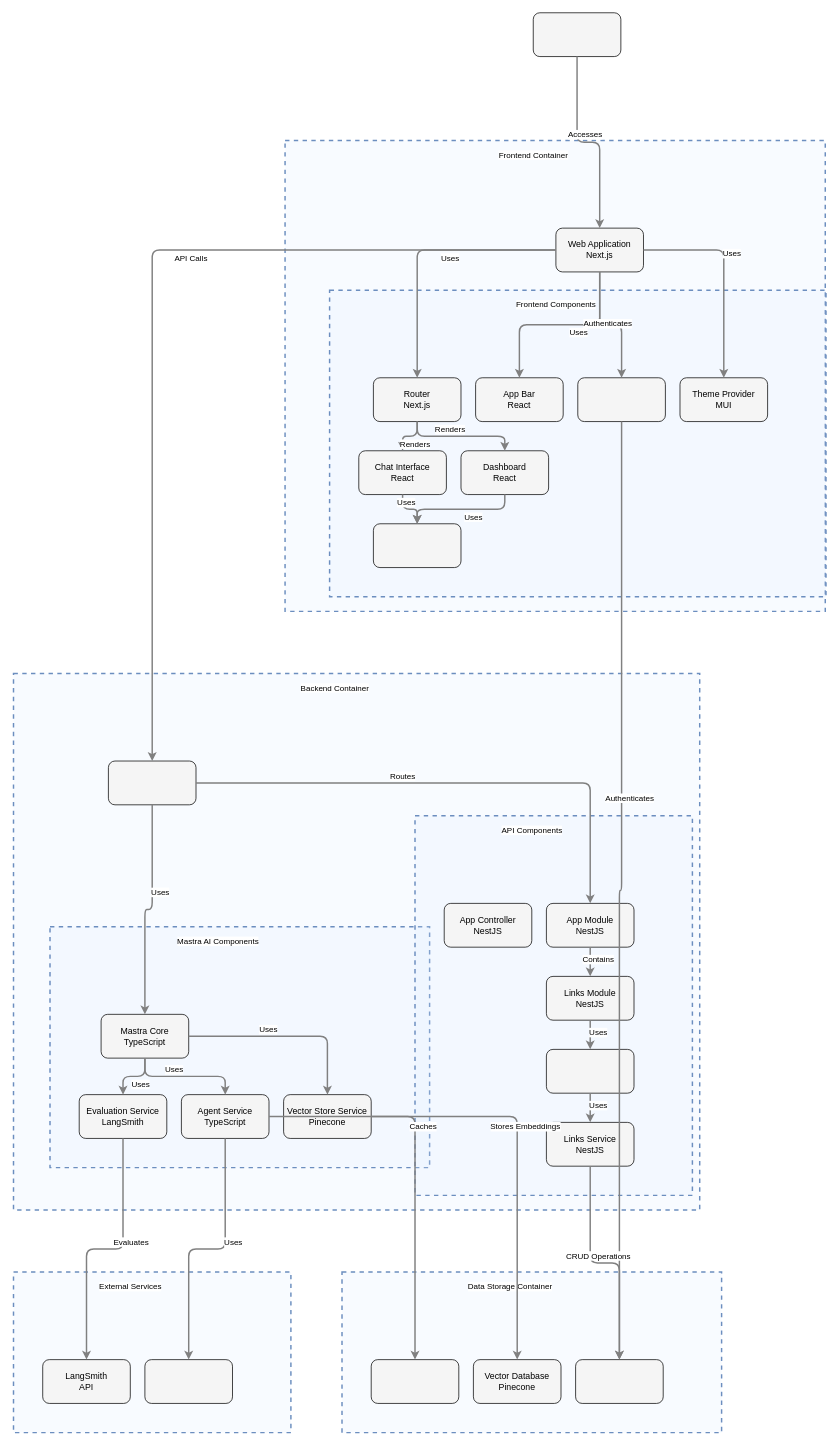
Some shapes in this 839 by 1446 pixel diagram are drawn without their labels. The box of each missing label's shape, as (x1, y1, x2, y2) in pixels:
API Server NestJS: (108, 760, 196, 805)
Auth Client Supabase: (577, 377, 665, 422)
Cache Redis/Upstash: (370, 1359, 459, 1403)
External User: (533, 12, 621, 57)
Google AI API: (144, 1359, 233, 1403)
Links Controller NestJS: (546, 1049, 634, 1093)
Primary Database Supabase: (575, 1359, 663, 1403)
UI Components React/MUI: (373, 523, 461, 568)
